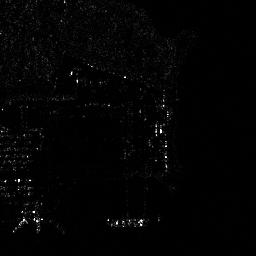ship: (104, 217, 145, 228)
